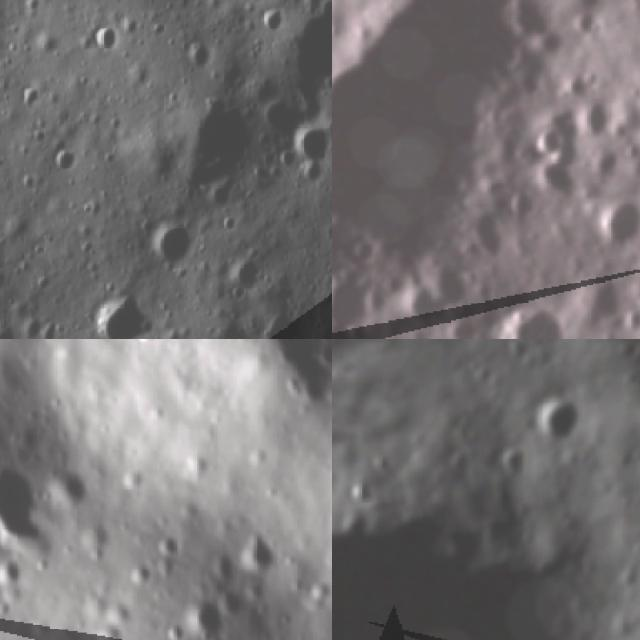crater: (332, 0, 593, 298), (332, 391, 640, 640), (176, 104, 273, 199), (522, 374, 605, 457), (481, 288, 584, 339), (284, 0, 332, 108), (0, 457, 54, 544), (332, 266, 391, 339), (145, 215, 207, 276), (574, 271, 632, 335), (590, 189, 640, 260), (390, 282, 447, 339), (173, 588, 233, 640), (232, 520, 286, 576), (566, 96, 620, 150), (420, 259, 472, 314), (494, 434, 545, 486), (95, 297, 158, 339), (284, 128, 332, 183), (45, 458, 93, 513), (341, 460, 392, 511), (336, 494, 382, 540), (90, 12, 131, 62), (559, 8, 607, 50), (342, 237, 383, 273), (534, 124, 568, 164), (372, 446, 407, 480), (445, 442, 479, 476), (563, 0, 612, 21), (0, 549, 23, 592), (613, 339, 640, 369), (128, 339, 165, 350), (628, 534, 640, 560)
